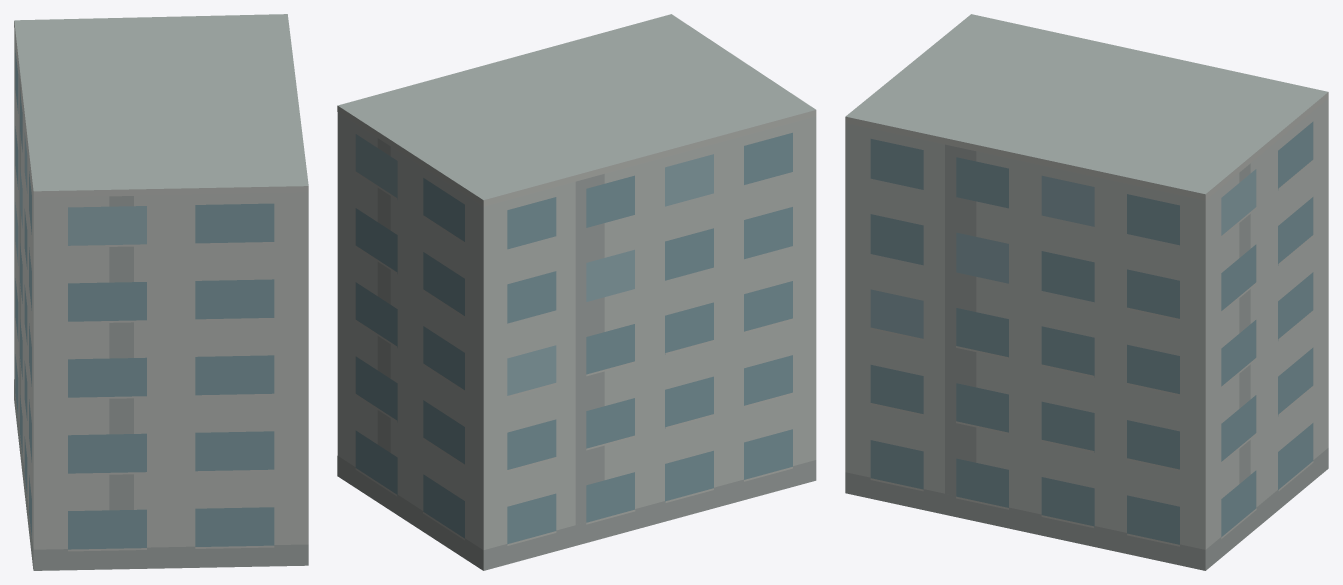
The model's file is survey-upis-32887406.glb.
3 views of the same model, side by side, from view 1: azimuth 30°, elevation 25°; view 2: azimuth 150°, elevation 25°; view 3: azimuth 270°, elevation 25° (orthographic). The views are drawn at different scales.
Parts seen in each view (by area): view 1: survey-upis-32887406.tmp; view 2: survey-upis-32887406.tmp; view 3: survey-upis-32887406.tmp.
Part boxes in pixels (x1,y1,x2,y2): survey-upis-32887406.tmp: (14,14,308,570); survey-upis-32887406.tmp: (337,14,816,570); survey-upis-32887406.tmp: (845,14,1328,570).
Bounding box in the file's own units: 14.48 × 14.1 × 16.4.
